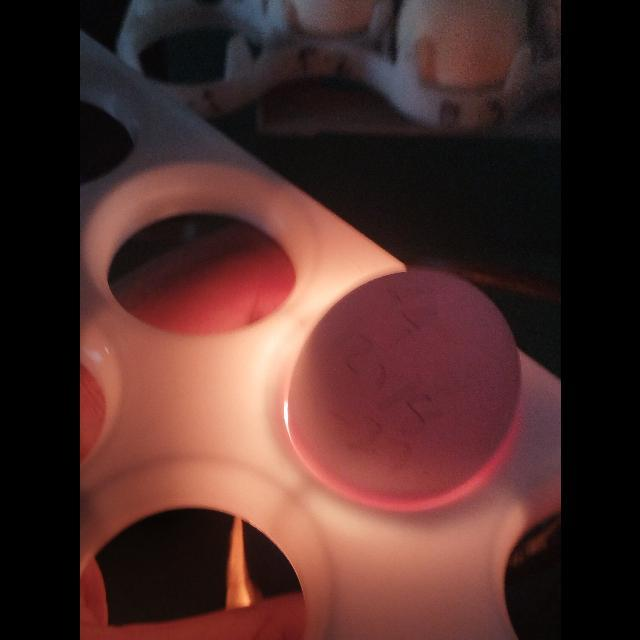Fertile: (280, 256, 518, 512)
